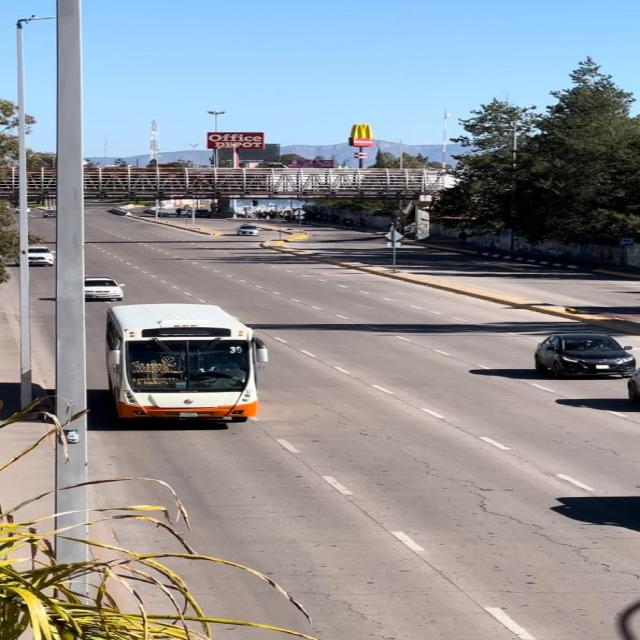Auto: (521, 325, 640, 386), (75, 270, 148, 306), (16, 239, 65, 278)
Autobus: (97, 302, 266, 431)
